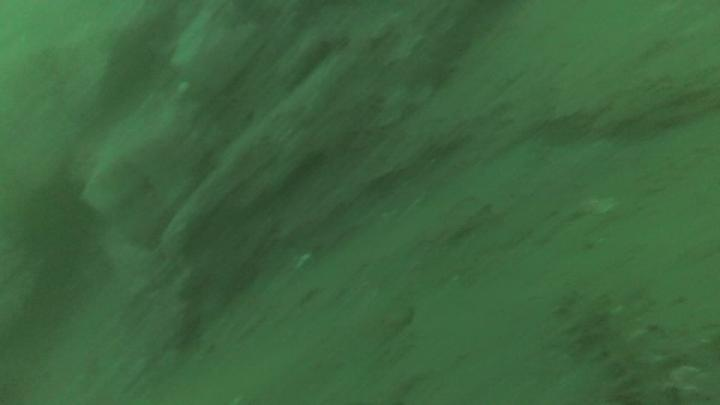holothurian: (556, 291, 674, 404)
